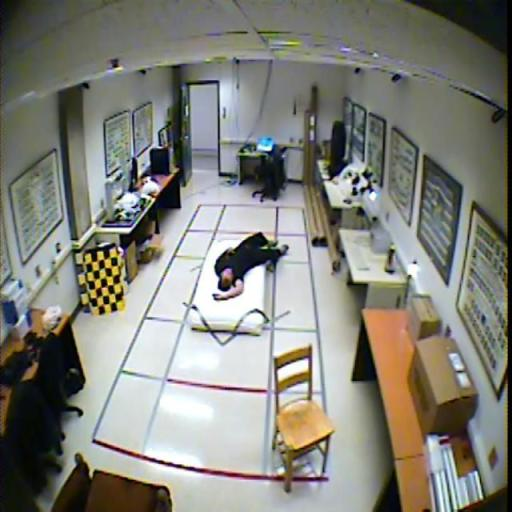Fall: (213, 232, 290, 300)
